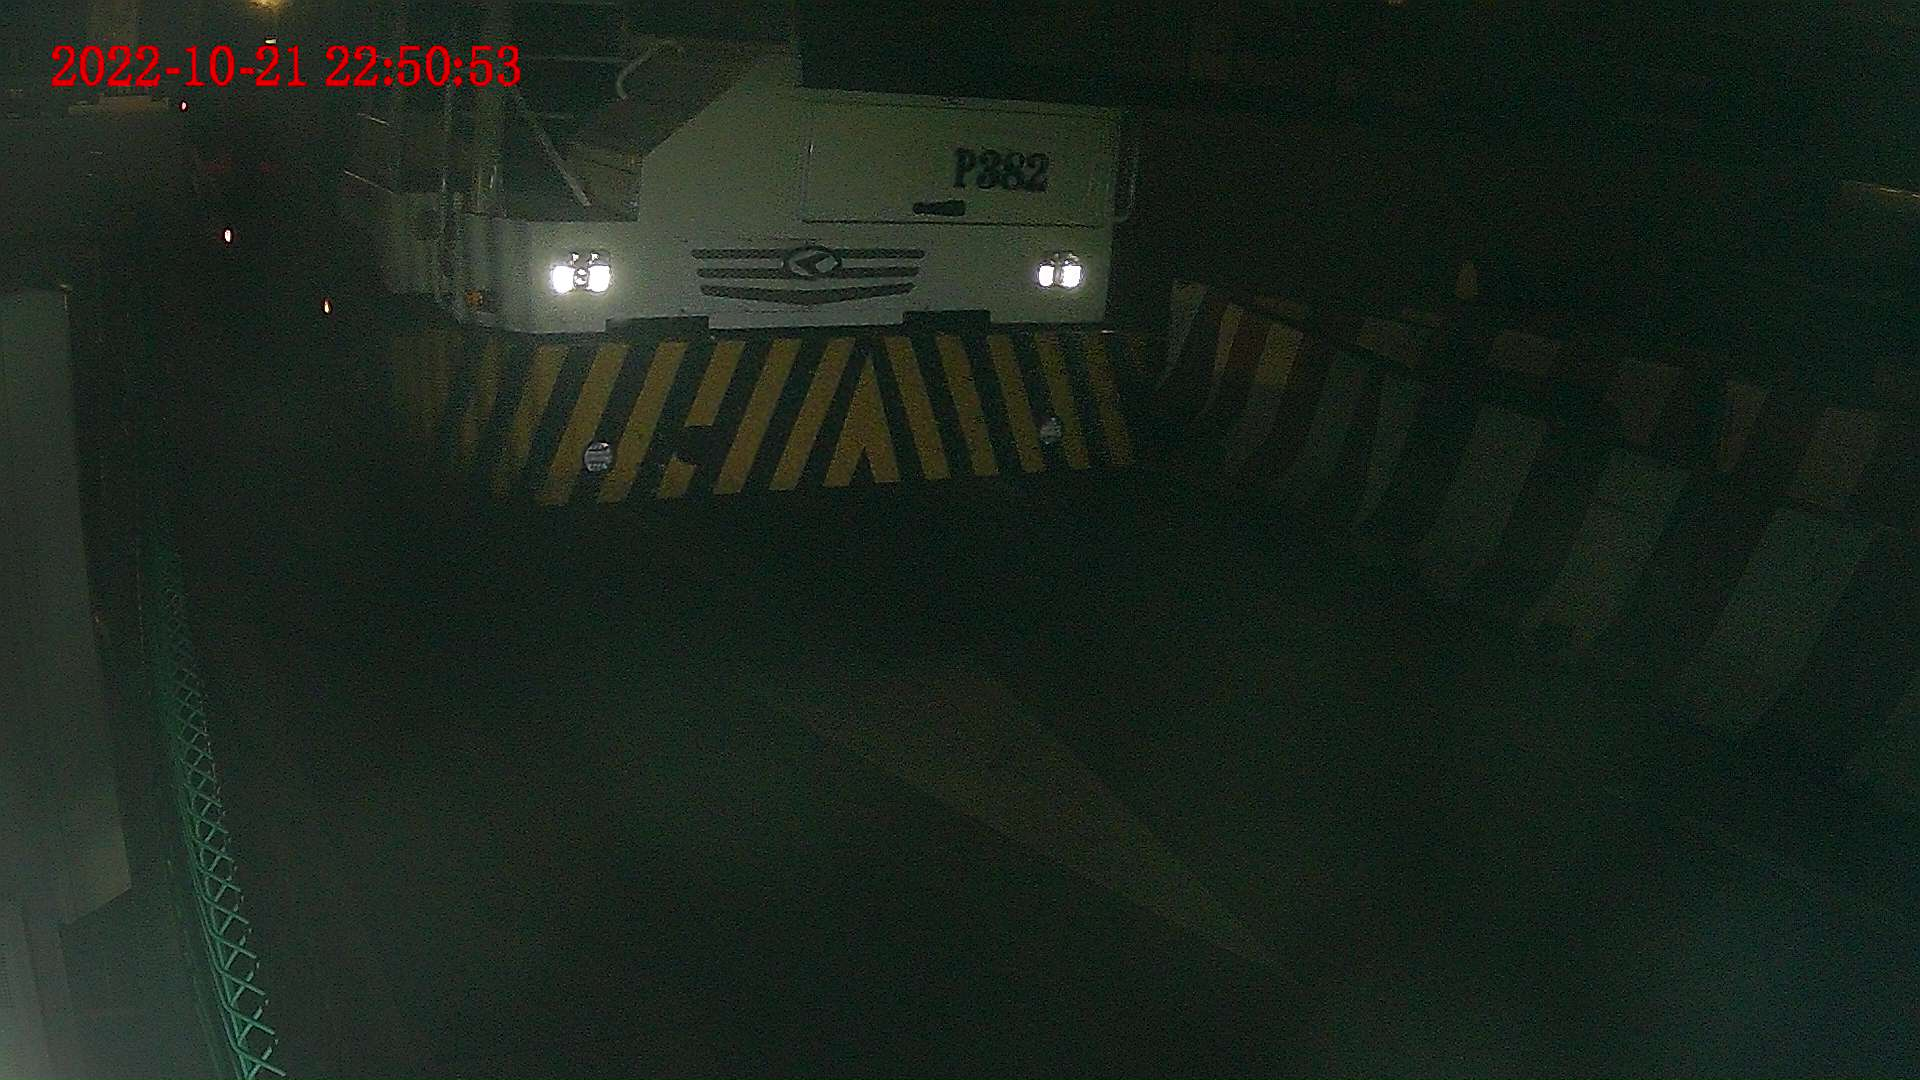head: (315, 1, 1151, 503)
